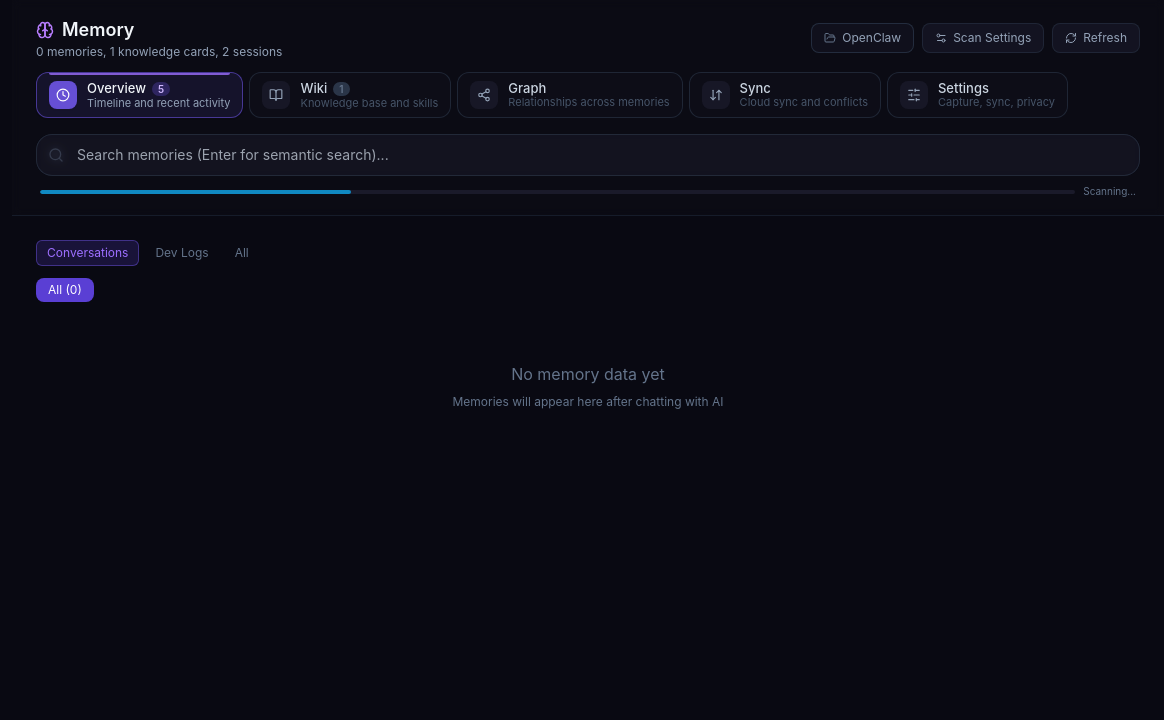
Memory Page — Wiki Overview shows cards › uses memoryGetContext as the primary source for cards
Step 1. Click the text "Wiki" → point(314, 88), box [300, 82, 327, 95]
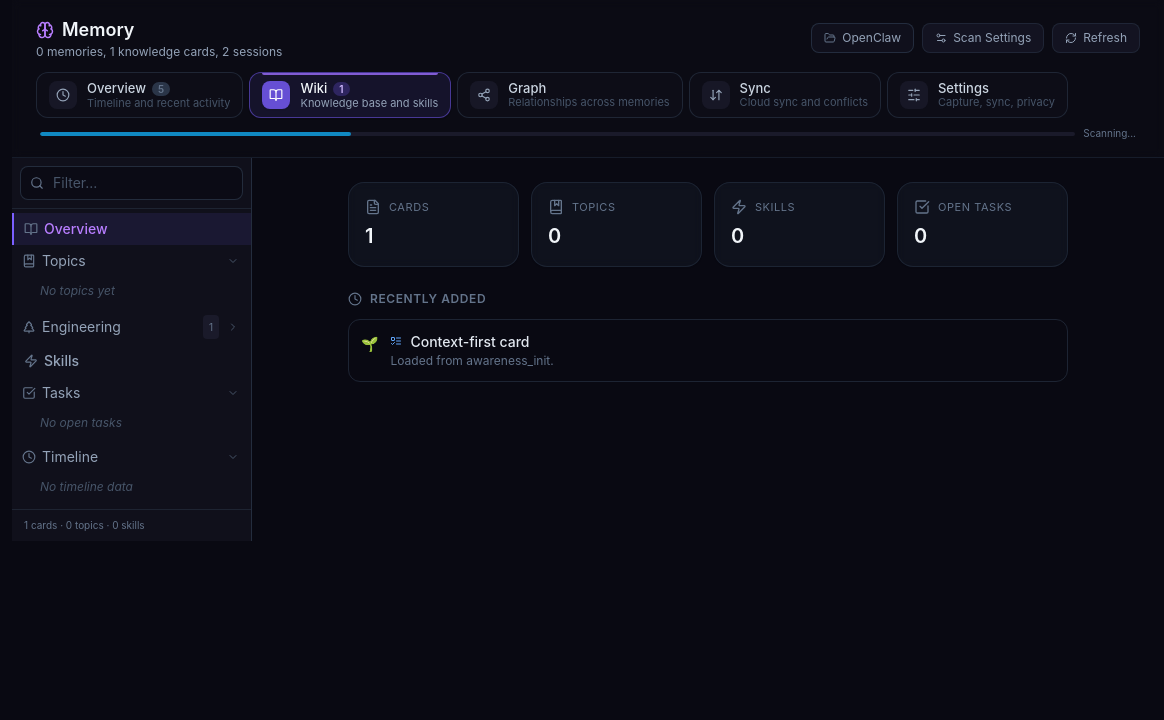
Check: the text "Context-first card" is shown, box [410, 332, 530, 351]
